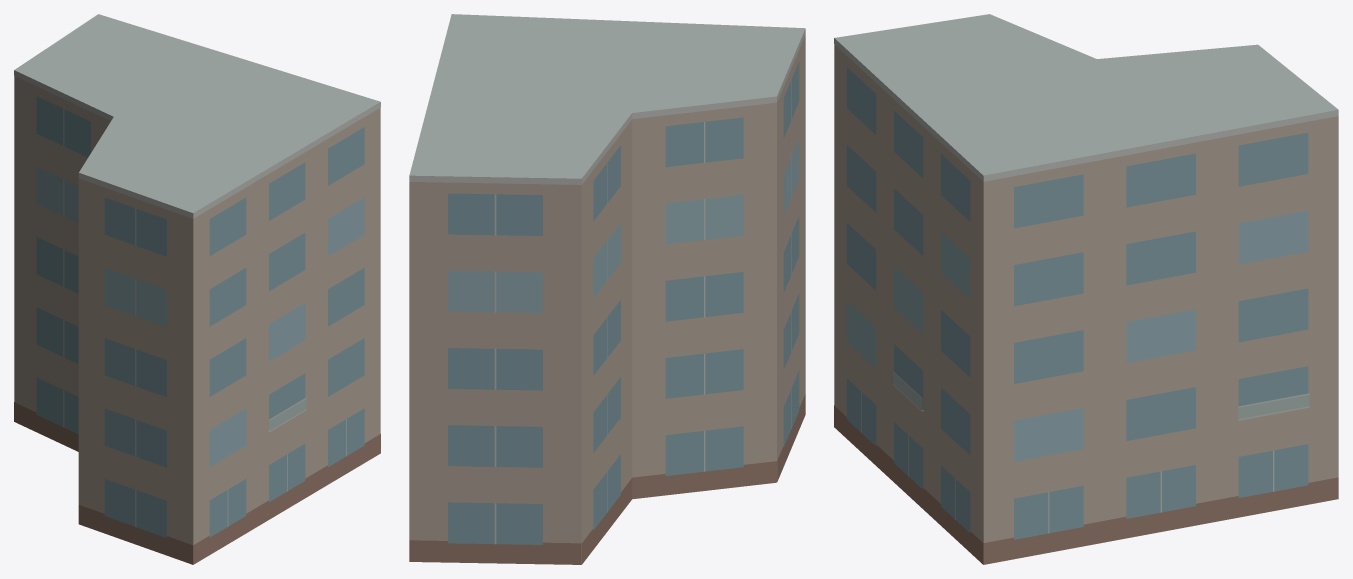
File: residential-161ef432-0144-4f5d-8be4-ecd6a0f829cd.glb
3 views of the same model, side by side, from view 1: azimuth 30°, elevation 25°; view 2: azimuth 150°, elevation 25°; view 3: azimuth 270°, elevation 25° (orthographic). The views are drawn at different scales.
Parts seen in each view (by area): view 1: residential-161ef432-0144-4f5d-8be4-ecd6a0f829cd.tmp; view 2: residential-161ef432-0144-4f5d-8be4-ecd6a0f829cd.tmp; view 3: residential-161ef432-0144-4f5d-8be4-ecd6a0f829cd.tmp.
Boxes of the visible parts, left/top/right/bottom form: residential-161ef432-0144-4f5d-8be4-ecd6a0f829cd.tmp: left=14, top=14, right=380, bottom=564; residential-161ef432-0144-4f5d-8be4-ecd6a0f829cd.tmp: left=409, top=14, right=805, bottom=564; residential-161ef432-0144-4f5d-8be4-ecd6a0f829cd.tmp: left=834, top=14, right=1338, bottom=564.
Size of the model in its own units: 13.59 by 15.25 by 17.92.
